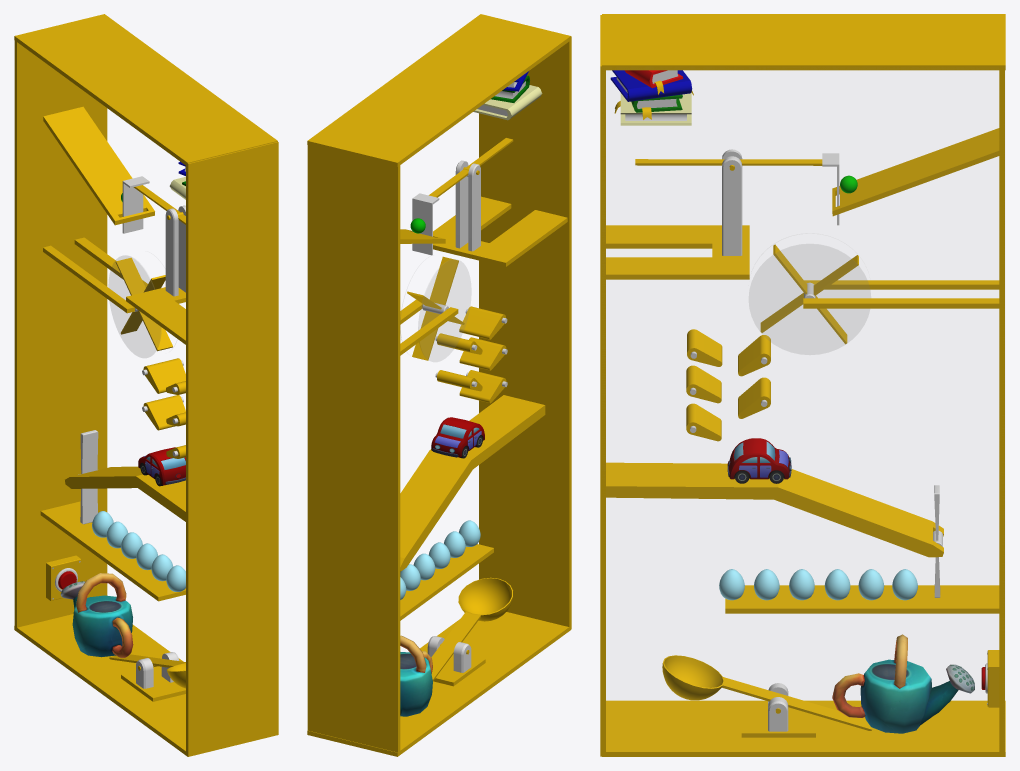
The picture shows the model from 3 angles, left to right: view 1: azimuth 30°, elevation 25°; view 2: azimuth 150°, elevation 25°; view 3: azimuth 270°, elevation 25°; orthographic projection. The views are drawn at different scales.
Visible parts, largest first — view 1: Masina_2_ram, Drzac_1, Kantica, Klackalica_drzac, Tockic_vetrenjaca, Postolje, Drzac_vetrenjace, Tockic_drzac, Postolje_za_klackalicu4, Elise3, Autic, Drzac_loptice (+4 smaller); view 2: Masina_2_ram, Drzac_vetrenjace, Klackalica_drzac, Tockic_vetrenjaca, Kasika_od_klackalice2, Kantica, Postolje, Autic, Postolje_za_klackalicu4, Fliper6, Tockic_drzac, Knjiga (+7 smaller); view 3: Masina_2_ram, Drzac_vetrenjace, Tockic_vetrenjaca, Klackalica_drzac, Kantica, Postolje, Drzac_1, Tockic_drzac, Kasika_od_klackalice2, Postolje_za_klackalicu4, Autic, Knjiga (+10 smaller).
Part boxes in pixels (bbox=[...]): Masina_2_ram: bbox=[14, 14, 278, 756]; Drzac_1: bbox=[43, 106, 154, 225]; Kantica: bbox=[60, 573, 133, 657]; Klackalica_drzac: bbox=[126, 205, 185, 344]; Tockic_vetrenjaca: bbox=[109, 256, 172, 357]; Postolje: bbox=[40, 501, 185, 601]; Drzac_vetrenjace: bbox=[65, 466, 185, 521]; Tockic_drzac: bbox=[43, 237, 147, 313]; Postolje_za_klackalicu4: bbox=[121, 652, 185, 701]; Elise3: bbox=[78, 430, 98, 524]; Autic: bbox=[138, 447, 185, 486]; Drzac_loptice: bbox=[122, 176, 149, 233]; Masina_2_ram: bbox=[307, 14, 571, 756]; Drzac_vetrenjace: bbox=[400, 395, 545, 571]; Klackalica_drzac: bbox=[433, 160, 567, 266]; Tockic_vetrenjaca: bbox=[407, 256, 470, 361]; Kasika_od_klackalice2: bbox=[431, 577, 512, 680]; Kantica: bbox=[400, 635, 432, 716]; Postolje: bbox=[400, 544, 493, 620]; Autic: bbox=[431, 417, 484, 458]; Postolje_za_klackalicu4: bbox=[427, 636, 485, 686]; Fliper6: bbox=[459, 306, 507, 339]; Tockic_drzac: bbox=[400, 299, 458, 355]; Knjiga: bbox=[473, 85, 542, 120]; Masina_2_ram: bbox=[600, 14, 1005, 756]; Drzac_vetrenjace: bbox=[606, 462, 943, 557]; Tockic_vetrenjaca: bbox=[749, 244, 870, 354]; Klackalica_drzac: bbox=[606, 149, 749, 279]; Kantica: bbox=[832, 634, 974, 733]; Postolje: bbox=[725, 585, 999, 613]; Drzac_1: bbox=[832, 128, 999, 216]; Tockic_drzac: bbox=[803, 280, 999, 308]; Kasika_od_klackalice2: bbox=[662, 655, 872, 730]; Postolje_za_klackalicu4: bbox=[741, 683, 815, 737]; Autic: bbox=[727, 438, 791, 483]; Knjiga: bbox=[614, 92, 691, 125].
Size of the model in its own units: 0.0778 by 0.4896 by 0.2598.
Materials: 17 (2 with a texture image).
